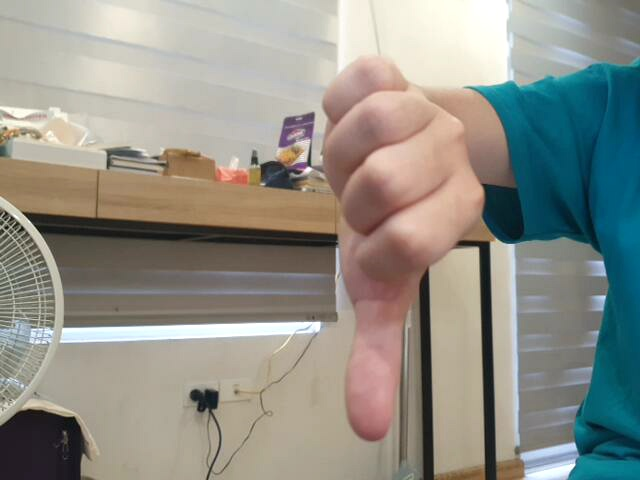ThumbsDown: (320, 50, 489, 449)
